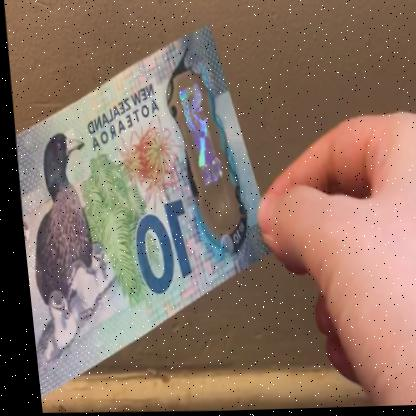10F: (171, 78, 225, 202)
